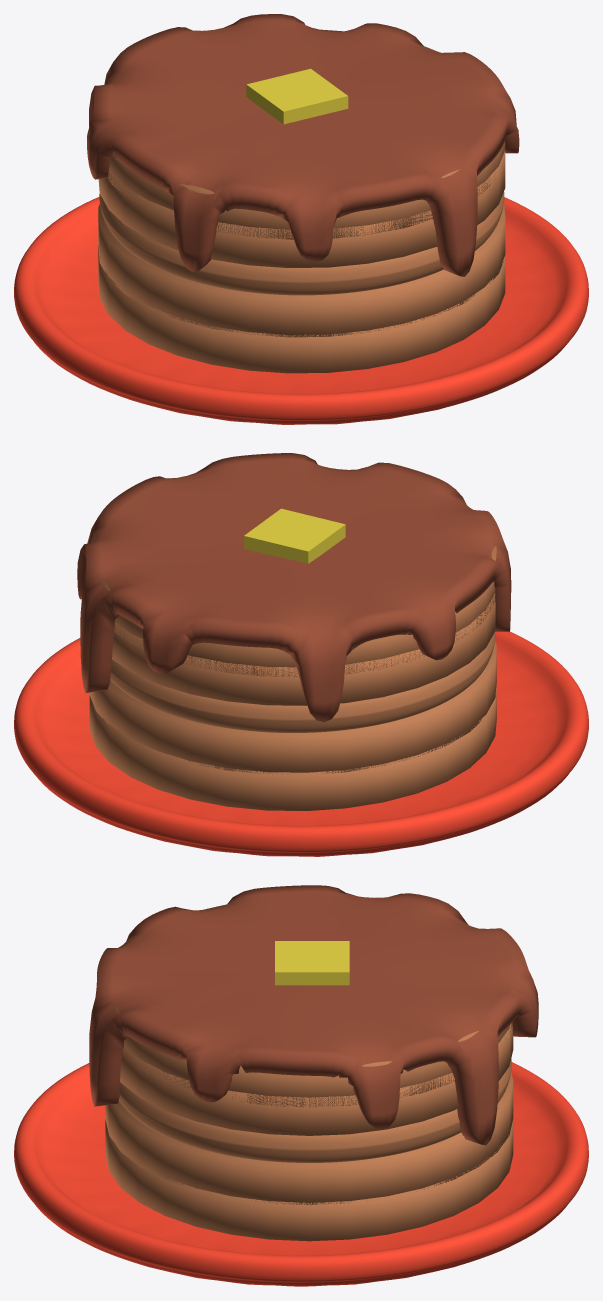
File: pancakeBaru1.gltf
The picture shows the model from 3 angles, top to bottom: view 1: azimuth 30°, elevation 25°; view 2: azimuth 150°, elevation 25°; view 3: azimuth 270°, elevation 25°; orthographic projection.
Visible parts, largest first — view 1: Circle.004, Circle.006, Circle.001, Circle, Circle.003, Circle.002, Circle.005, Plane; view 2: Circle.004, Circle.006, Circle.001, Circle, Circle.003, Circle.002, Circle.005, Plane; view 3: Circle.004, Circle.006, Circle.001, Circle, Circle.003, Circle.002, Circle.005, Plane.
Boxes of the visible parts, x1,y1,x2,y2 form: Circle.004: (87,14,519,276); Circle.006: (14,197,588,424); Circle.001: (98,202,505,337); Circle: (98,245,505,373); Circle.003: (98,150,505,267); Circle.002: (99,192,504,295); Circle.005: (108,29,505,239); Plane: (246,68,348,124); Circle.004: (77,453,511,722); Circle.006: (14,631,588,856); Circle.001: (89,641,496,774); Circle: (89,684,496,810); Circle.003: (112,594,495,705); Circle.002: (110,631,495,732); Circle.005: (91,531,496,677); Plane: (244,508,345,563); Circle.004: (89,885,538,1145); Circle.006: (14,1062,588,1286); Circle.001: (105,1072,513,1204); Circle: (105,1119,513,1241); Circle.003: (120,1022,513,1135); Circle.002: (119,1059,511,1162); Circle.005: (111,904,511,1107); Plane: (275,941,349,985).
Size of the model in its own units: 2.02 by 0.8738 by 2.02.
